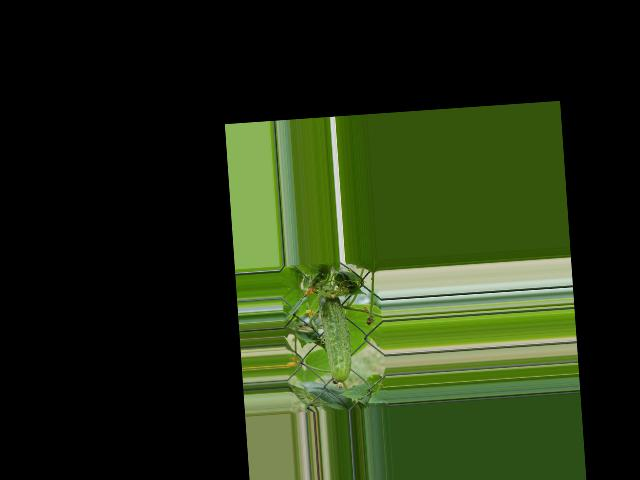cucumber: (318, 289, 353, 388)
